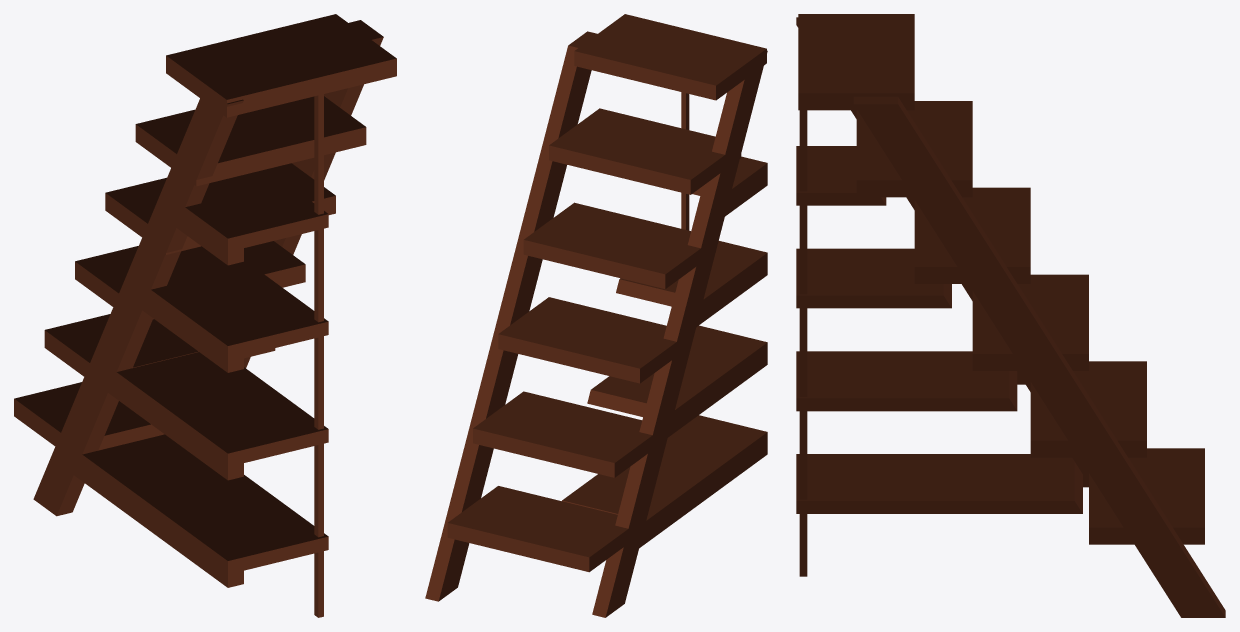
File: Stair.fbx
The picture shows the model from 3 angles, left to right: view 1: azimuth 30°, elevation 25°; view 2: azimuth 150°, elevation 25°; view 3: azimuth 270°, elevation 25°; orthographic projection. The views are drawn at different scales.
Visible parts, largest first — view 1: Stair; view 2: Stair; view 3: Stair.
Boxes of the visible parts, left/top/right/bottom form: Stair: left=14, top=14, right=396, bottom=617; Stair: left=425, top=14, right=767, bottom=617; Stair: left=796, top=14, right=1225, bottom=617.
Size of the model in its own units: 2.08 by 2.77 by 0.9969.
